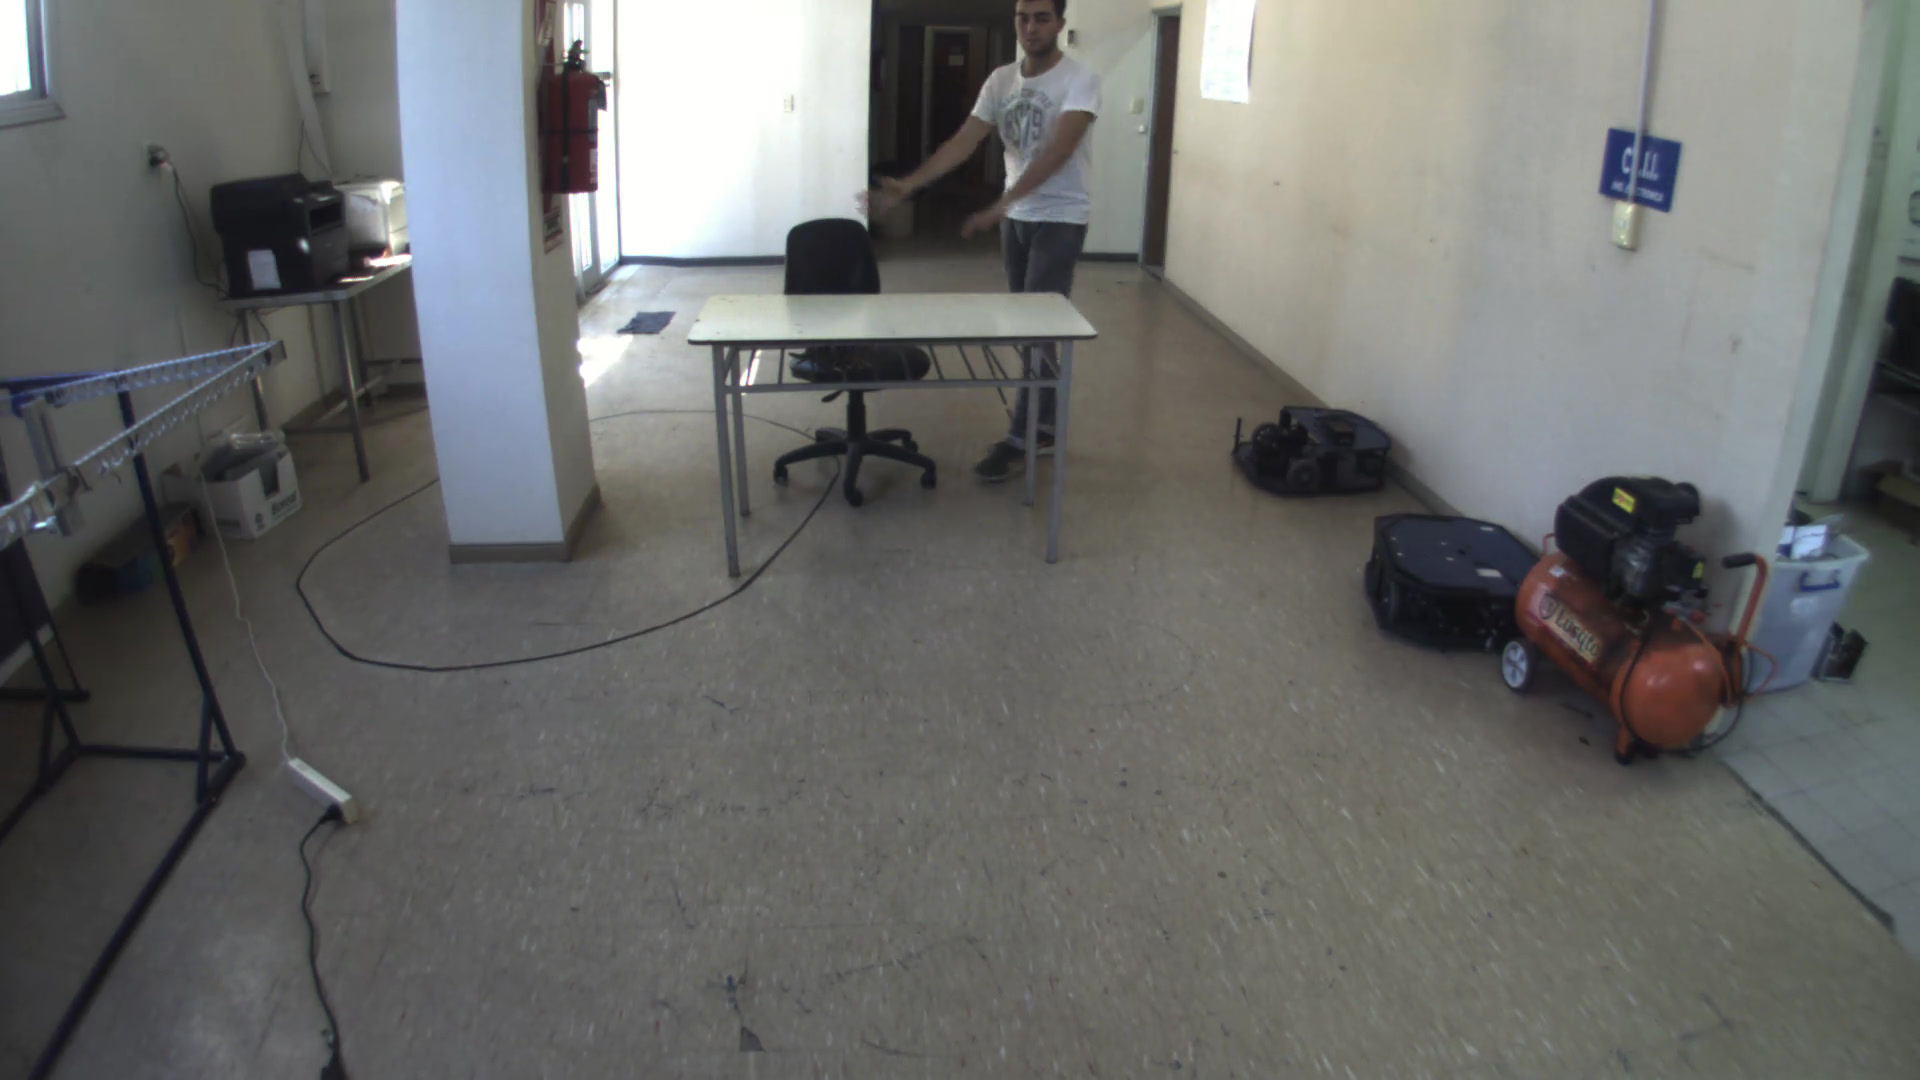hand: (851, 167, 920, 237), (953, 190, 1013, 244)
